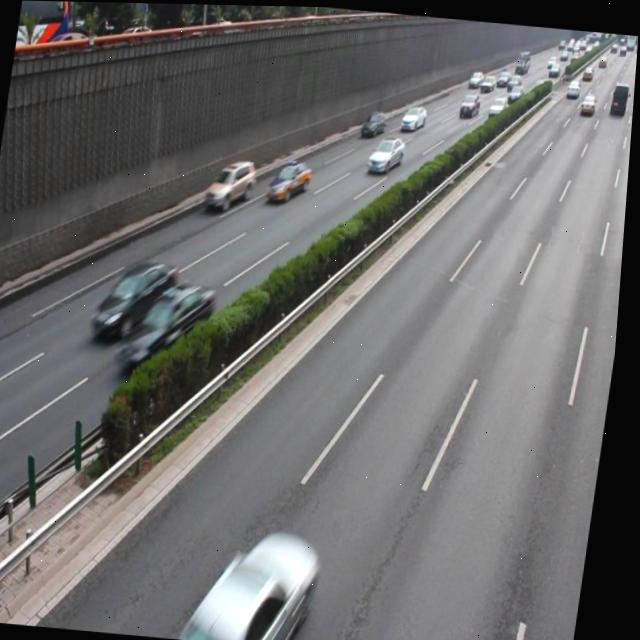car: (187, 518, 330, 640), (119, 275, 221, 371), (95, 256, 186, 342), (205, 154, 261, 212), (265, 156, 315, 201), (366, 132, 407, 173)
